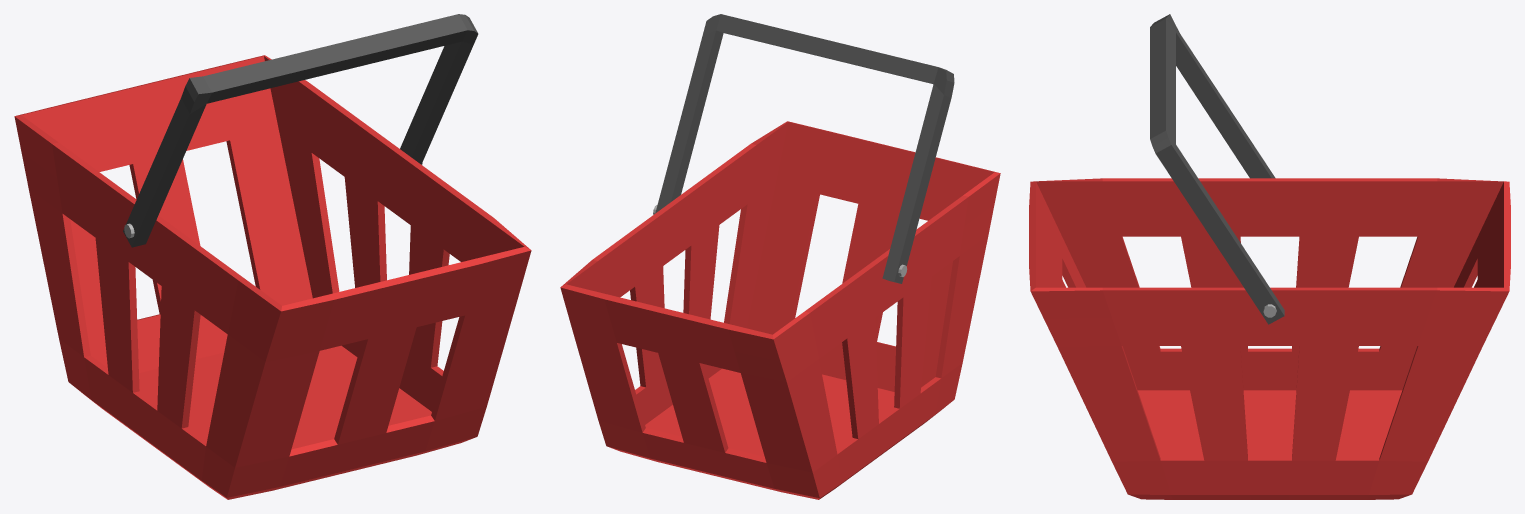
File: Korb_V02.fbx
The picture shows the model from 3 angles, left to right: view 1: azimuth 30°, elevation 25°; view 2: azimuth 150°, elevation 25°; view 3: azimuth 270°, elevation 25°; orthographic projection. The views are drawn at different scales.
Visible parts, largest first — view 1: korb; view 2: korb; view 3: korb.
Part boxes in pixels (left/top/right/bottom): korb: left=14, top=14, right=531, bottom=499; korb: left=560, top=14, right=1000, bottom=499; korb: left=1029, top=14, right=1510, bottom=499.
Bounding box in the file's own units: 224 × 307 × 357.
